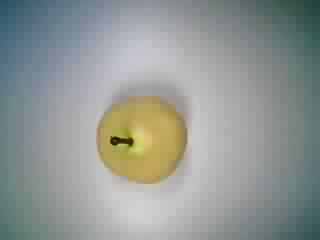pear: (88, 83, 193, 191)
